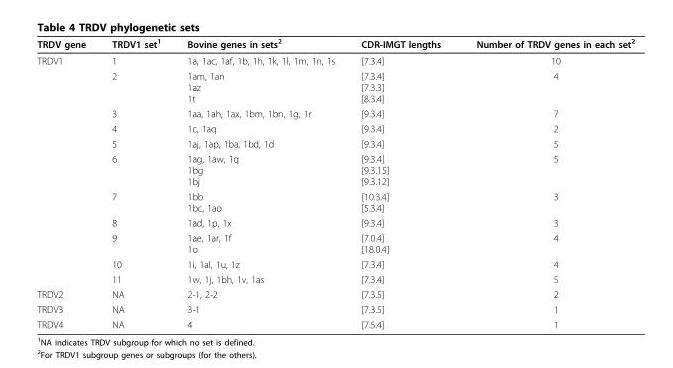table: (36, 36, 634, 329)
table column: (457, 36, 634, 329), (173, 36, 347, 329), (347, 36, 457, 329), (98, 36, 173, 329), (36, 36, 98, 329)
table column header: (36, 36, 634, 52)
table row: (36, 150, 634, 188), (36, 68, 634, 105), (36, 229, 634, 256), (36, 188, 634, 214), (36, 36, 634, 52), (36, 52, 634, 68), (36, 105, 634, 120), (36, 120, 634, 135), (36, 135, 634, 150), (36, 214, 634, 229), (36, 256, 634, 271), (36, 271, 634, 286), (36, 286, 634, 301), (36, 301, 634, 316), (36, 316, 634, 329)
table spanning cell: (36, 52, 98, 286)
